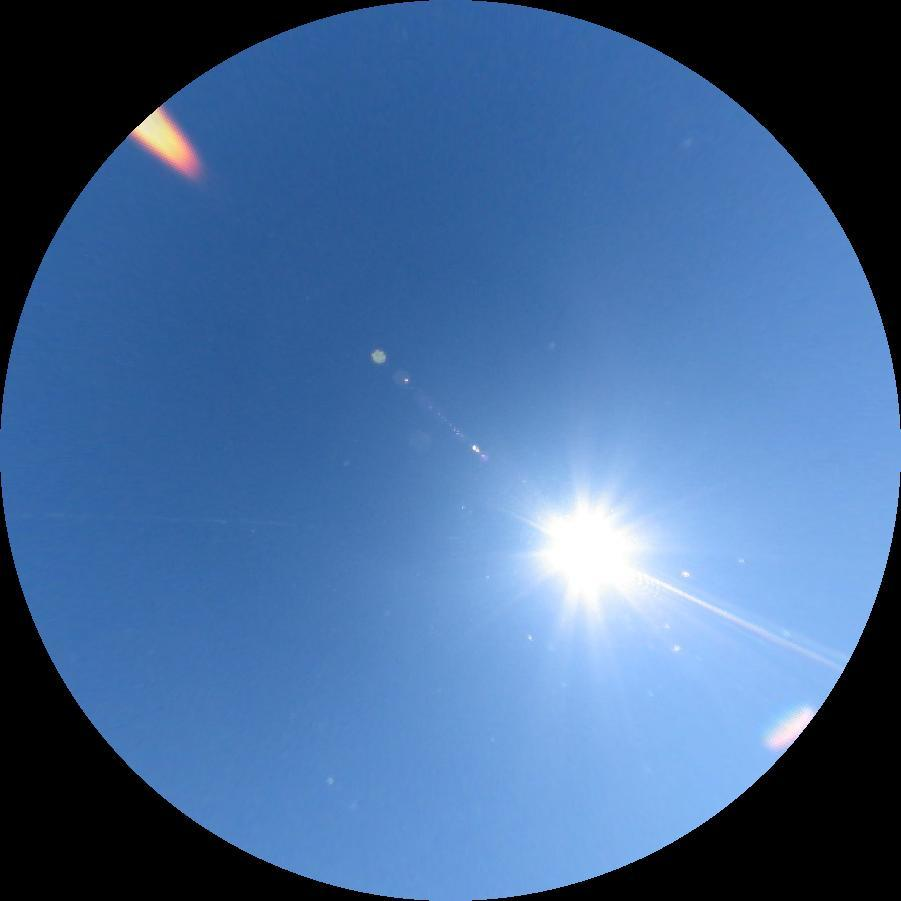parasite: (628, 566, 847, 673), (9, 510, 294, 529)
sun: (523, 484, 654, 617)
